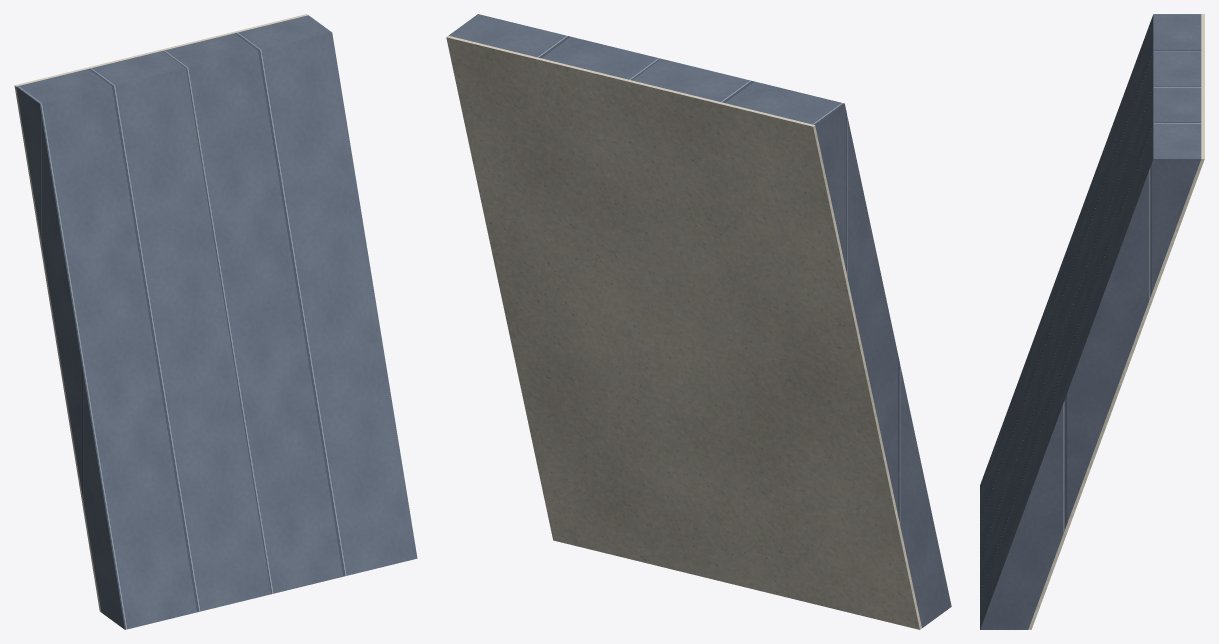
File: mansard_plain.glb
3 views of the same model, side by side, from view 1: azimuth 30°, elevation 25°; view 2: azimuth 150°, elevation 25°; view 3: azimuth 270°, elevation 25° (orthographic). The views are drawn at different scales.
Parts seen in each view (by area): view 1: mansard_plain_zinc, mansard_plain_plaster; view 2: mansard_plain_plaster, mansard_plain_zinc; view 3: mansard_plain_zinc, mansard_plain_plaster.
Boxes of the visible parts, <box> form: mansard_plain_zinc: <box>16,15,417,629</box>; mansard_plain_plaster: <box>14,14,308,612</box>; mansard_plain_plaster: <box>446,35,921,629</box>; mansard_plain_zinc: <box>449,14,951,627</box>; mansard_plain_zinc: <box>980,14,1201,629</box>; mansard_plain_plaster: <box>1028,14,1204,629</box>.
Bounding box in the file's own units: 2 × 3.03 × 1.31.
Materials: 2 (2 with a texture image).
